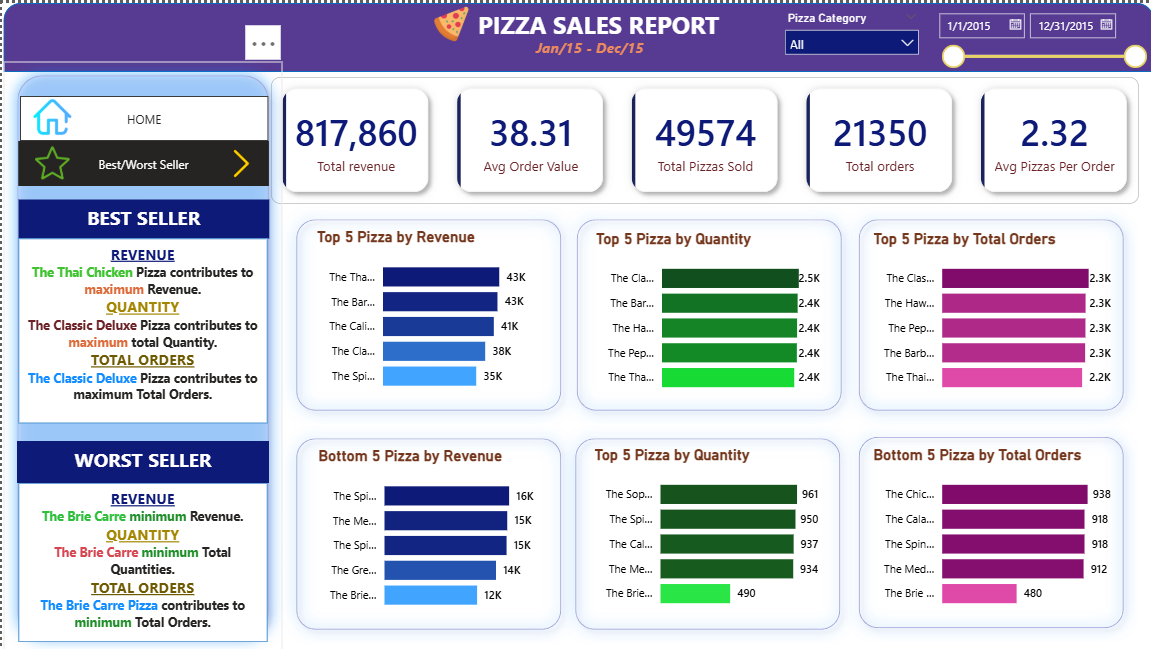

What the dashboard file says about the page in this screenshot:
{"tool":"powerbi","page":{"name":"Best/Worst Seller","canvas":[1280,720],"ordinal":1},"visuals":[{"type":"cardVisual","fields":{"Data":["pizza_sales.Total revenue","pizza_sales.Avg Order Value","pizza_sales.Total Pizzas Sold","pizza_sales.Total orders","pizza_sales.Avg Pizzas Per Order"]},"box":[281.7,65,998.3,175],"z":0},{"type":"shape","box":[1.7,0,1278.3,76.7],"z":1000},{"type":"textbox","box":[1.7,0,1278.3,46.7],"z":2000},{"type":"textbox","box":[0,33.3,1280,31.7],"z":3000},{"type":"image","box":[470,3.3,58.3,40],"z":4000},{"type":"shape","box":[1.7,65,310,655],"z":5000},{"type":"shape","box":[311.7,225,325,243.3],"z":6000},{"type":"textbox","box":[18.3,218.3,278.3,43.3],"z":7000},{"type":"textbox","box":[18.3,261.7,276.7,205],"z":8000},{"type":"textbox","box":[16.7,486.7,280,46.7],"z":9000},{"type":"textbox","box":[18.3,533.3,276.7,176.7],"z":10000},{"type":"slicer","fields":{"Values":["pizza_sales.order_date"]},"box":[1028.3,1.7,251.7,75],"z":11000},{"type":"slicer","fields":{"Values":["pizza_sales.pizza_category"]},"box":[860,3.3,168.3,73.3],"z":12000},{"type":"shape","box":[936.7,225,325,243.3],"z":13000},{"type":"shape","box":[623.3,225,325,243.3],"z":14000},{"type":"shape","box":[311.7,468.3,325,243.3],"z":15000},{"type":"shape","box":[621.7,468.3,325,243.3],"z":16000},{"type":"shape","box":[936.7,466.7,325,243.3],"z":17000},{"type":"barChart","title":"Top 5 Pizza by Revenue","fields":{"Category":["pizza_sales.pizza_name"],"Y":["pizza_sales.Total revenue"]},"box":[345,250,258.3,191.7],"z":18000},{"type":"barChart","title":"Bottom 5 Pizza by Revenue","fields":{"Category":["pizza_sales.pizza_name"],"Y":["pizza_sales.Total revenue"]},"box":[346.7,493.3,258.3,191.7],"z":19000},{"type":"barChart","title":"Top 5 Pizza by Quantity","fields":{"Category":["pizza_sales.pizza_name"],"Y":["pizza_sales.Total Pizzas Sold"]},"box":[655,251.7,258.3,191.7],"z":20000},{"type":"barChart","title":"Top 5 Pizza by Quantity","fields":{"Category":["pizza_sales.pizza_name"],"Y":["pizza_sales.Total Pizzas Sold"]},"box":[653.3,491.7,258.3,191.7],"z":21000},{"type":"barChart","title":"Top 5 Pizza by Total Orders","fields":{"Category":["pizza_sales.pizza_name"],"Y":["pizza_sales.Total orders"]},"box":[963.3,251.7,273.3,191.7],"z":22000},{"type":"barChart","title":"Bottom 5 Pizza by Total Orders","fields":{"Category":["pizza_sales.pizza_name"],"Y":["pizza_sales.Total orders"]},"box":[963.3,491.7,273.3,191.7],"z":23000},{"type":"pageNavigator","box":[18.3,153.3,278.3,50],"z":24000},{"type":"pageNavigator","box":[20,103.3,276.7,50],"z":25000},{"type":"image","box":[250,153.3,31.7,50],"z":26000},{"type":"image","box":[20,158.3,71.7,38.3],"z":26001},{"type":"image","box":[35,100,41.7,53.3],"z":26002}]}

Visuals, with their boxes in screenshot pixels (x1, y1, x2, y2), scaled from the page's 1280x720 canvas onto the 1151x649 screenshot:
cardVisual - pizza_sales.Total revenue x pizza_sales.Avg Order Value: 253, 59, 1150, 216
shape: 2, 0, 1150, 69
textbox: 2, 0, 1150, 42
textbox: 0, 30, 1150, 59
image: 423, 3, 475, 39
shape: 2, 59, 280, 648
shape: 280, 203, 573, 422
textbox: 16, 197, 267, 236
textbox: 16, 236, 265, 421
textbox: 15, 439, 267, 481
textbox: 16, 481, 265, 640
slicer - pizza_sales.order_date: 925, 2, 1150, 69
slicer - pizza_sales.pizza_category: 773, 3, 925, 69
shape: 842, 203, 1135, 422
shape: 560, 203, 853, 422
shape: 280, 422, 573, 641
shape: 559, 422, 851, 641
shape: 842, 421, 1135, 640
"Top 5 Pizza by Revenue" barChart: 310, 225, 542, 398
"Bottom 5 Pizza by Revenue" barChart: 312, 445, 544, 617
"Top 5 Pizza by Quantity" barChart: 589, 227, 821, 400
"Top 5 Pizza by Quantity" barChart: 587, 443, 820, 616
"Top 5 Pizza by Total Orders" barChart: 866, 227, 1112, 400
"Bottom 5 Pizza by Total Orders" barChart: 866, 443, 1112, 616
pageNavigator: 16, 138, 267, 183
pageNavigator: 18, 93, 267, 138
image: 225, 138, 253, 183
image: 18, 143, 82, 177
image: 31, 90, 69, 138
